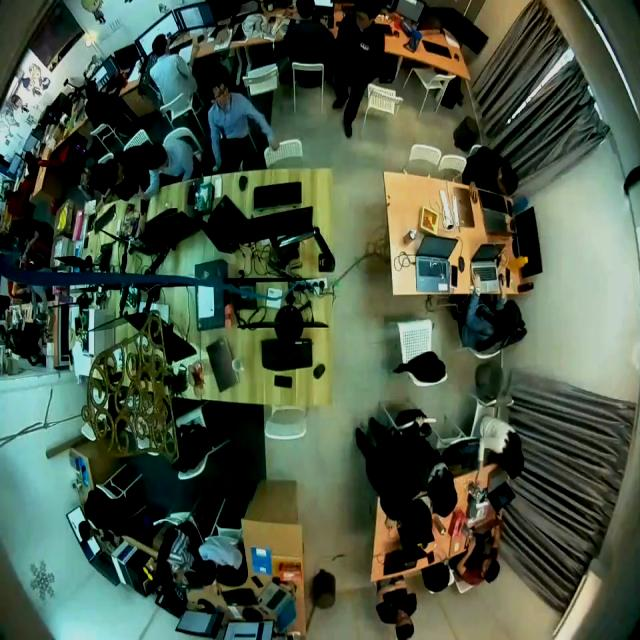staff-tag: (361, 40, 369, 51)
